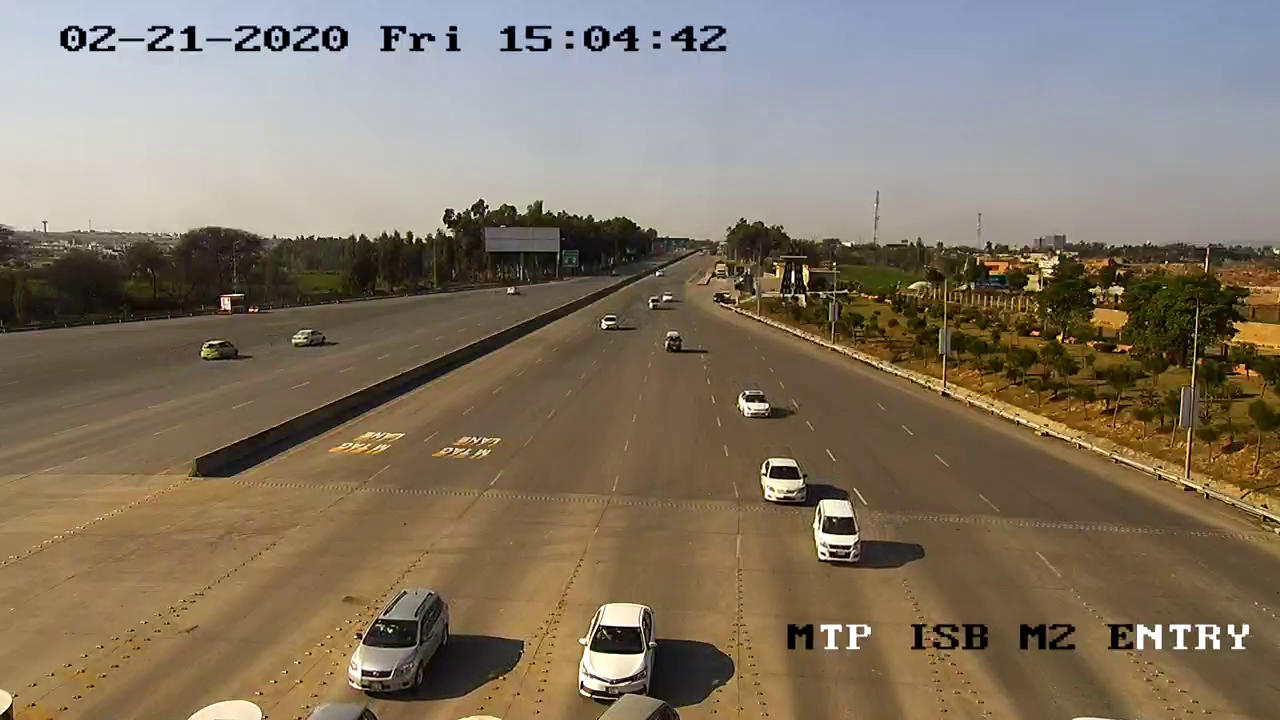f1: (331, 580, 459, 706), (562, 588, 668, 711), (805, 489, 871, 577), (749, 452, 812, 515), (726, 381, 785, 429)
